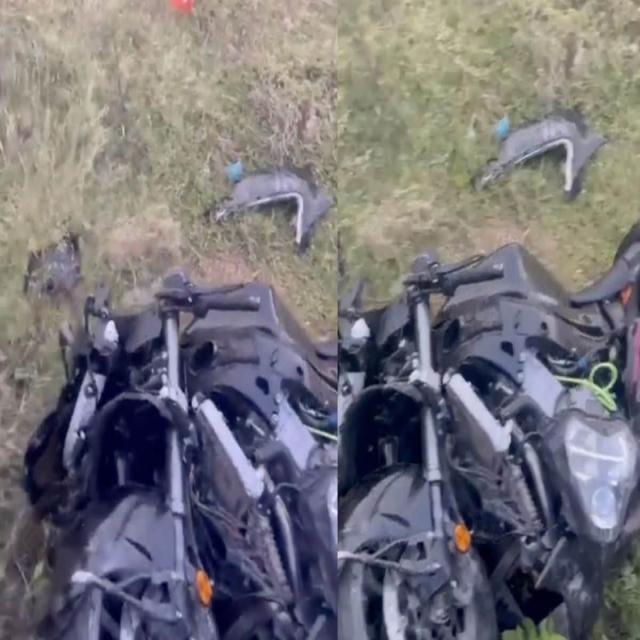accident: (338, 223, 640, 639), (25, 274, 338, 639)
